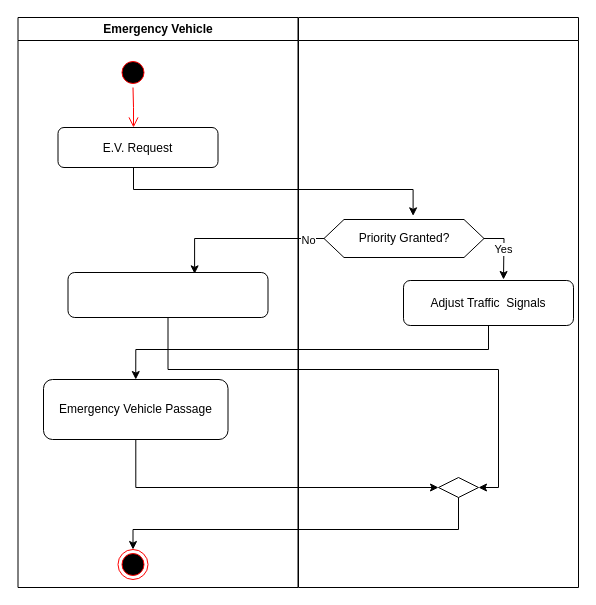
This 596x605 diagram has some shape labels left out. The shapes that lost their labels are listed below. From the top down, each one's box as (x1, y1, x2, y2) in pixels, then its label:
(67, 272, 268, 318): Traffic Normal Trafffic Flow
(298, 16, 578, 588): Traffic Control System
